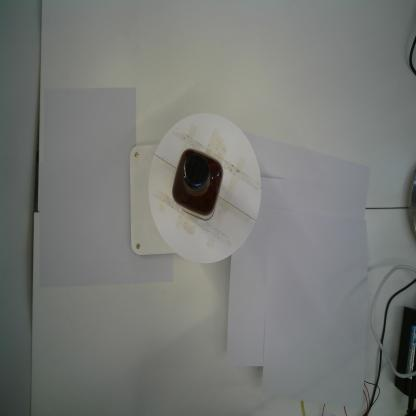Seasoner: (170, 146, 225, 222)
